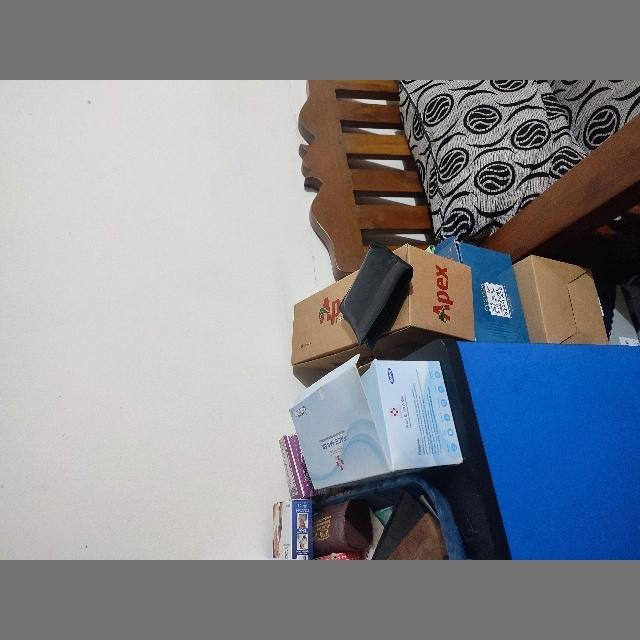Wallet: (338, 242, 414, 351)
